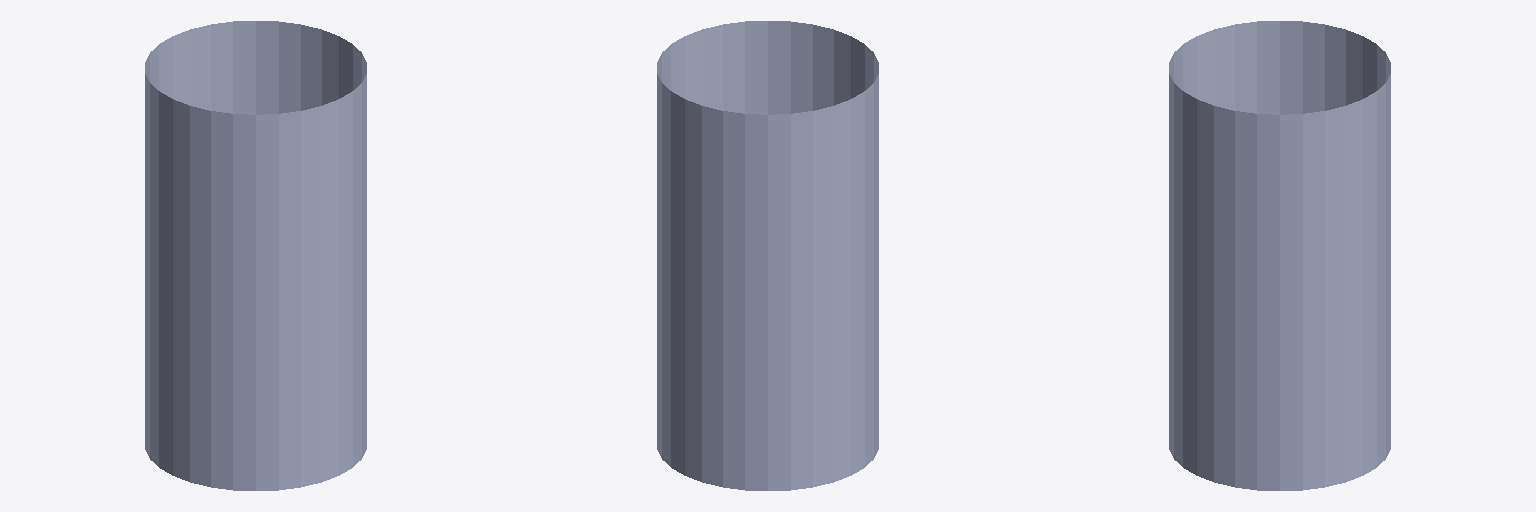
robot.urdf — simple_workstation_v2:
<robot
  name="simple_workstation_v2">
  <link
    name="base_link">
    <inertial>
      <origin
        xyz="-1.6723E-16 0.18 0.46"
        rpy="0 0 0" />
      <mass
        value="1242" />
      <inertia
        ixx="0"
        ixy="0"
        ixz="0"
        iyy="0"
        iyz="0"
        izz="0" />
    </inertial>
    <visual>
      <origin
        xyz="0 0 0"
        rpy="0 0 0" />
      <geometry>
        <mesh
          filename="package://simple_workstation_v2/meshes/base_link.STL" />
      </geometry>
      <material
        name="">
        <color
          rgba="0.79216 0.81961 0.93333 1" />
      </material>
    </visual>
    <collision>
      <origin
        xyz="0 0 0"
        rpy="0 0 0" />
      <geometry>
        <mesh
          filename="package://simple_workstation_v2/meshes/base_link.STL" />
      </geometry>
    </collision>
  </link>
  <link
    name="left_h_link">
    <inertial>
      <origin
        xyz="0 -2.6887E-17 -0.25"
        rpy="0 0 0" />
      <mass
        value="0.8" />
      <inertia
        ixx="0"
        ixy="0"
        ixz="0"
        iyy="0"
        iyz="0"
        izz="0" />
    </inertial>
    <visual>
      <origin
        xyz="0 0 0"
        rpy="0 0 0" />
      <geometry>
        <mesh
          filename="package://simple_workstation_v2/meshes/left_h_link.STL" />
      </geometry>
      <material
        name="">
        <color
          rgba="0.79216 0.81961 0.93333 1" />
      </material>
    </visual>
    <collision>
      <origin
        xyz="0 0 0"
        rpy="0 0 0" />
      <geometry>
        <mesh
          filename="package://simple_workstation_v2/meshes/left_h_link.STL" />
      </geometry>
    </collision>
  </link>
  <joint
    name="table_to_left_h_joint"
    type="fixed">
    <origin
      xyz="-0.6 -0.9 0"
      rpy="-1.5708 -6.123E-17 -1.5708" />
    <parent
      link="base_link" />
    <child
      link="left_h_link" />
    <axis
      xyz="0 0 0" />
  </joint>
  <link
    name="left_v_link">
    <inertial>
      <origin
        xyz="0 2.7756E-17 0.25"
        rpy="0 0 0" />
      <mass
        value="0.8" />
      <inertia
        ixx="0"
        ixy="0"
        ixz="0"
        iyy="0"
        iyz="0"
        izz="0" />
    </inertial>
    <visual>
      <origin
        xyz="0 0 0"
        rpy="0 0 0" />
      <geometry>
        <mesh
          filename="package://simple_workstation_v2/meshes/left_v_link.STL" />
      </geometry>
      <material
        name="">
        <color
          rgba="0.79216 0.81961 0.93333 1" />
      </material>
    </visual>
    <collision>
      <origin
        xyz="0 0 0"
        rpy="0 0 0" />
      <geometry>
        <mesh
          filename="package://simple_workstation_v2/meshes/left_v_link.STL" />
      </geometry>
    </collision>
  </link>
  <joint
    name="left_h_to_left_v_joint"
    type="fixed">
    <origin
      xyz="0.02 0 -0.48"
      rpy="0 -1.5708 0" />
    <parent
      link="left_h_link" />
    <child
      link="left_v_link" />
    <axis
      xyz="0 0 0" />
  </joint>
  <link
    name="right_h_link">
    <inertial>
      <origin
        xyz="-1.1102E-16 0 0.25"
        rpy="0 0 0" />
      <mass
        value="0.8" />
      <inertia
        ixx="0"
        ixy="0"
        ixz="0"
        iyy="0"
        iyz="0"
        izz="0" />
    </inertial>
    <visual>
      <origin
        xyz="0 0 0"
        rpy="0 0 0" />
      <geometry>
        <mesh
          filename="package://simple_workstation_v2/meshes/right_h_link.STL" />
      </geometry>
      <material
        name="">
        <color
          rgba="0.79216 0.81961 0.93333 1" />
      </material>
    </visual>
    <collision>
      <origin
        xyz="0 0 0"
        rpy="0 0 0" />
      <geometry>
        <mesh
          filename="package://simple_workstation_v2/meshes/right_h_link.STL" />
      </geometry>
    </collision>
  </link>
  <joint
    name="table_to_right_h_joint"
    type="fixed">
    <origin
      xyz="0.6 -0.9 0"
      rpy="1.5708 6.123E-17 1.5708" />
    <parent
      link="base_link" />
    <child
      link="right_h_link" />
    <axis
      xyz="0 0 0" />
  </joint>
  <link
    name="right_v_link">
    <inertial>
      <origin
        xyz="0 0 0.25"
        rpy="0 0 0" />
      <mass
        value="0.8" />
      <inertia
        ixx="0"
        ixy="0"
        ixz="0"
        iyy="0"
        iyz="0"
        izz="0" />
    </inertial>
    <visual>
      <origin
        xyz="0 0 0"
        rpy="0 0 0" />
      <geometry>
        <mesh
          filename="package://simple_workstation_v2/meshes/right_v_link.STL" />
      </geometry>
      <material
        name="">
        <color
          rgba="0.79216 0.81961 0.93333 1" />
      </material>
    </visual>
    <collision>
      <origin
        xyz="0 0 0"
        rpy="0 0 0" />
      <geometry>
        <mesh
          filename="package://simple_workstation_v2/meshes/right_v_link.STL" />
      </geometry>
    </collision>
  </link>
  <joint
    name="right_h_to_right_v_joint"
    type="fixed">
    <origin
      xyz="-0.02 0 0.48"
      rpy="3.1416 -1.5708 0" />
    <parent
      link="right_h_link" />
    <child
      link="right_v_link" />
    <axis
      xyz="0 0 0" />
  </joint>
</robot>

--- Render facts (derived) ---
3 views of the same robot in one strip: view 1: azimuth 30°, elevation 25°; view 2: azimuth 150°, elevation 25°; view 3: azimuth 270°, elevation 25° (orthographic).
Robot: simple_workstation_v2 — 5 links, 4 joints (4 fixed); root link base_link; default pose: all joints at 0.
Visible links, largest first — view 1: base_link; view 2: base_link; view 3: base_link.
Boxes of the visible links, box(x1,y1,x2,y2) form: base_link: box(145, 21, 366, 490); base_link: box(657, 21, 878, 490); base_link: box(1169, 21, 1390, 490).
Bounding box of the posed robot: 0.0825 × 0.082 × 0.1535 m (x, y, z).
1 mesh visuals loaded from 5 distinct referenced files (1 binary STL); not drawn: 4 (reference not matched to a file when rendering).